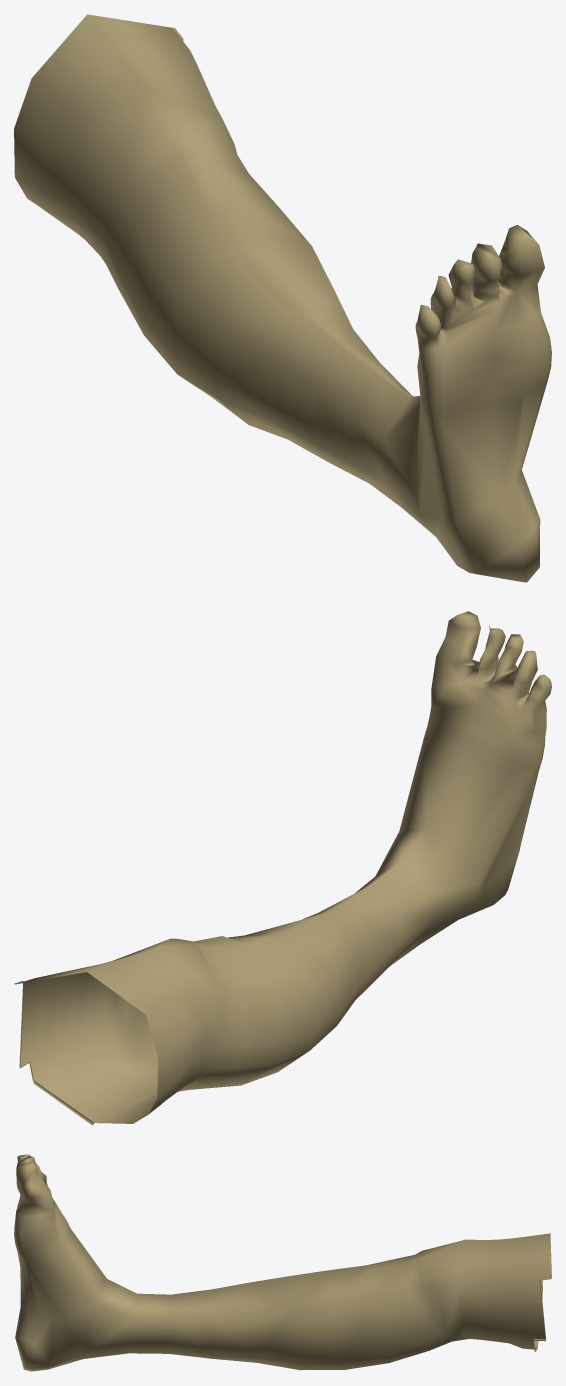
The model's file is leg.fbx.
3 views of the same model, one above another, from view 1: azimuth 30°, elevation 25°; view 2: azimuth 150°, elevation 25°; view 3: azimuth 270°, elevation 25° (orthographic). The views are drawn at different scales.
Parts seen in each view (by area): view 1: LEG; view 2: LEG; view 3: LEG.
Part boxes in pixels (x1,y1,x2,y2): LEG: (14, 14, 551, 582); LEG: (14, 611, 551, 1125); LEG: (14, 1154, 551, 1371).
Size of the model in its own units: 20.42 by 34.01 by 79.64.
